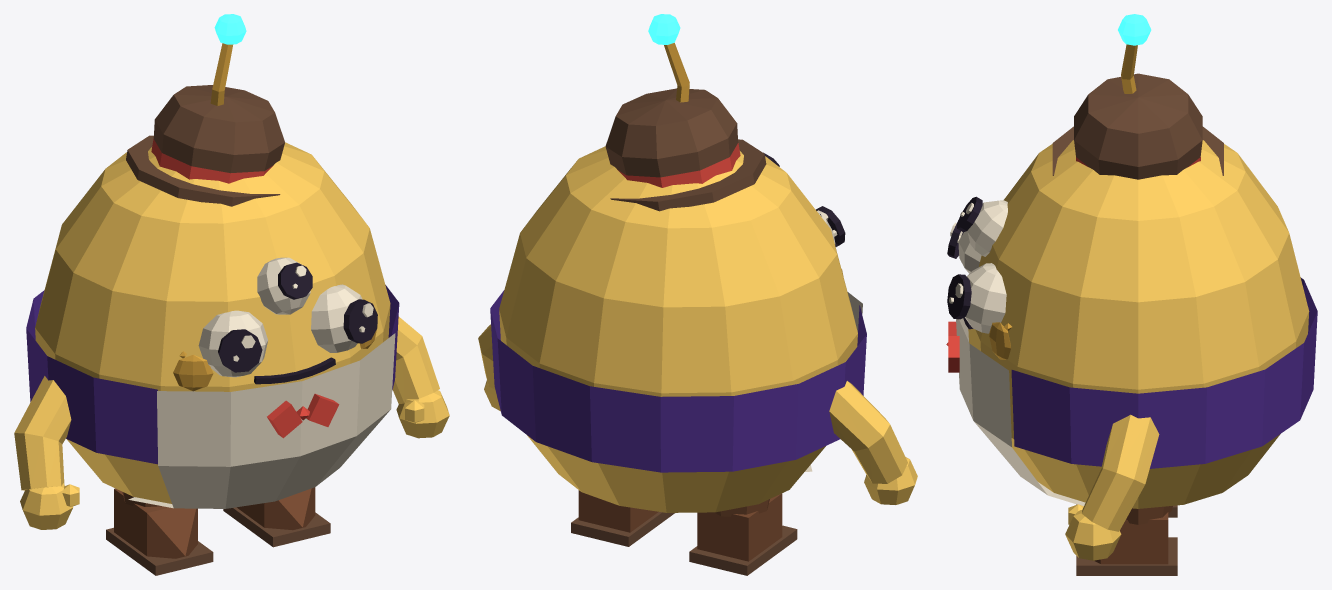
File: Char_Native_Bartender.fbx
3 views of the same model, side by side, from view 1: azimuth 30°, elevation 25°; view 2: azimuth 150°, elevation 25°; view 3: azimuth 270°, elevation 25° (orthographic). The views are drawn at different scales.
Visible parts, largest first — view 1: Char_Native_Bartender_Body, Char_Native_Bartender_Head, Char_Native_Bartender_Arm_R, Char_Native_Bartender_Leg_R, Char_Native_Bartender_Arm_L, Char_Native_Bartender_Leg_L; view 2: Char_Native_Bartender_Body, Char_Native_Bartender_Arm_R, Char_Native_Bartender_Leg_R, Char_Native_Bartender_Leg_L, Char_Native_Bartender_Head, Char_Native_Bartender_Arm_L; view 3: Char_Native_Bartender_Body, Char_Native_Bartender_Head, Char_Native_Bartender_Arm_L, Char_Native_Bartender_Leg_L.
Part boxes in pixels (bbox=[...]): Char_Native_Bartender_Body: bbox=[26, 85, 399, 508]; Char_Native_Bartender_Head: bbox=[173, 14, 377, 391]; Char_Native_Bartender_Arm_R: bbox=[14, 376, 79, 529]; Char_Native_Bartender_Leg_R: bbox=[106, 488, 213, 575]; Char_Native_Bartender_Arm_L: bbox=[392, 316, 449, 438]; Char_Native_Bartender_Leg_L: bbox=[223, 487, 330, 547]; Char_Native_Bartender_Body: bbox=[490, 88, 866, 512]; Char_Native_Bartender_Arm_R: bbox=[829, 381, 917, 504]; Char_Native_Bartender_Leg_R: bbox=[689, 493, 797, 575]; Char_Native_Bartender_Leg_L: bbox=[571, 490, 674, 546]; Char_Native_Bartender_Head: bbox=[648, 14, 845, 273]; Char_Native_Bartender_Arm_L: bbox=[478, 324, 500, 411]; Char_Native_Bartender_Body: bbox=[946, 73, 1317, 508]; Char_Native_Bartender_Head: bbox=[947, 14, 1151, 359]; Char_Native_Bartender_Arm_L: bbox=[1065, 414, 1159, 560]; Char_Native_Bartender_Leg_L: bbox=[1076, 506, 1177, 575].
Size of the model in its own units: 1.33 by 1.55 by 0.9892.
